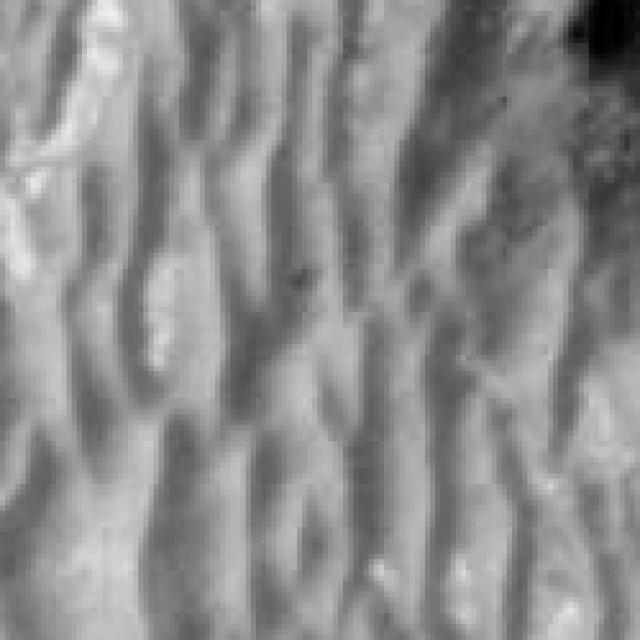Crater: (502, 0, 640, 177)
